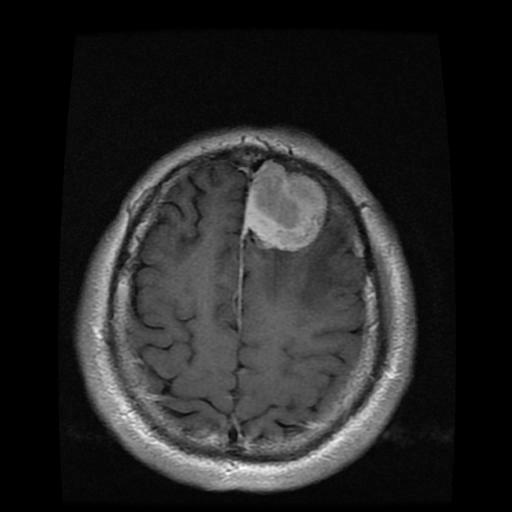Tumour-Meningioma: (237, 152, 338, 268)
